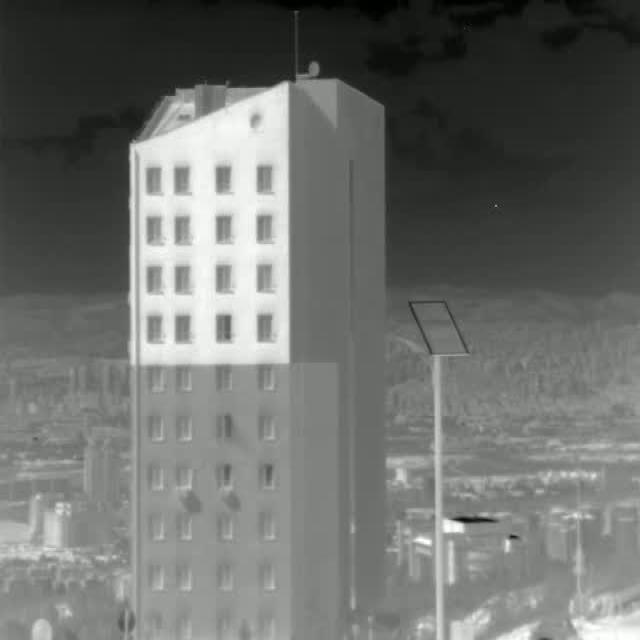Car: (529, 613, 579, 640)
